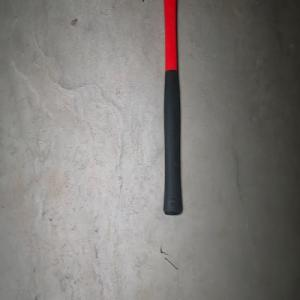Hammer: (142, 0, 200, 216)
